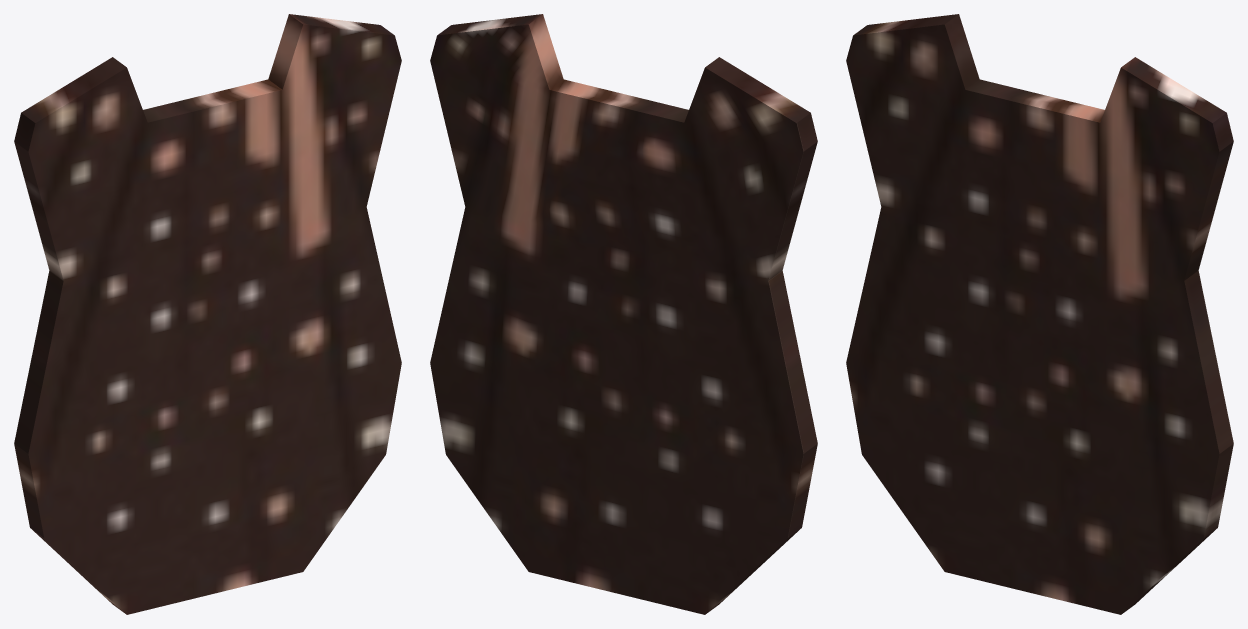
The model's file is cloth1.fbx.
3 views of the same model, side by side, from view 1: azimuth 30°, elevation 25°; view 2: azimuth 150°, elevation 25°; view 3: azimuth 330°, elevation 25° (orthographic).
Visible parts, largest first — view 1: Plane.277; view 2: Plane.277; view 3: Plane.277.
Boxes of the visible parts, box(x1,y1,x2,y2) form: Plane.277: box(14, 14, 401, 614); Plane.277: box(430, 14, 817, 614); Plane.277: box(846, 14, 1233, 614).
Size of the model in its own units: 19.88 by 27.85 by 1.32.
Materials: 1 (1 with a texture image).
